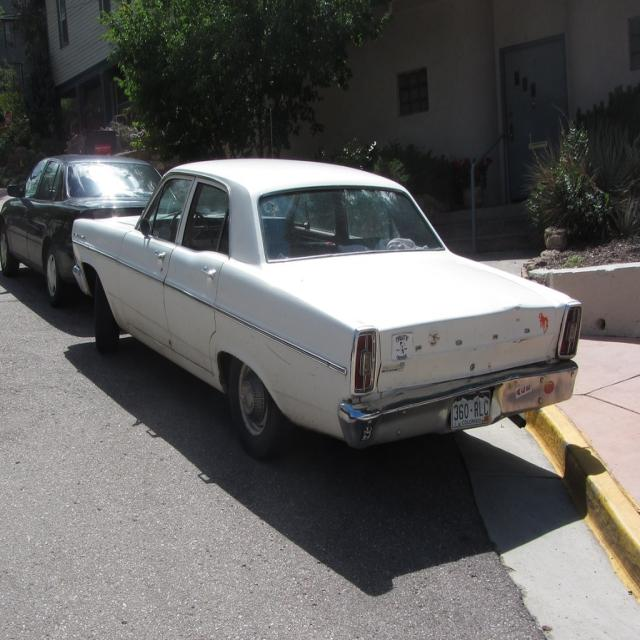car: (73, 150, 578, 461)
